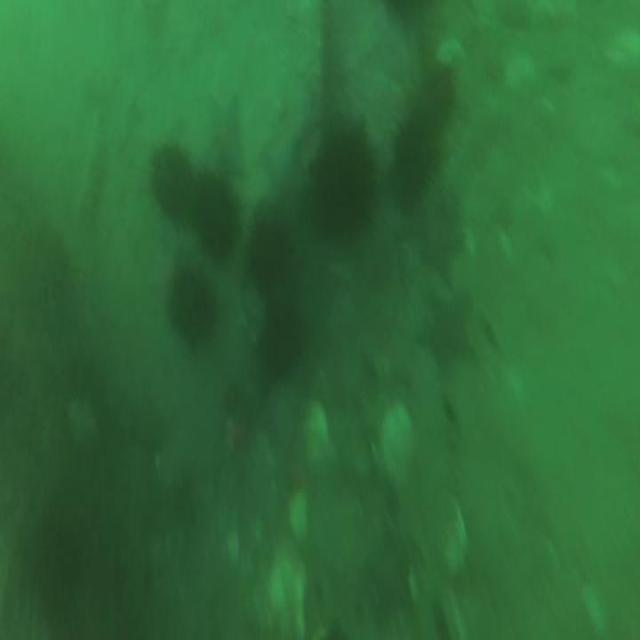echinus: (314, 126, 374, 226), (256, 307, 305, 384), (191, 170, 234, 254), (250, 214, 293, 292), (166, 272, 212, 341), (392, 119, 431, 194), (152, 147, 192, 220), (422, 62, 453, 114)
starfish: (420, 283, 471, 378), (259, 119, 305, 202), (202, 103, 242, 174), (422, 200, 461, 268)
